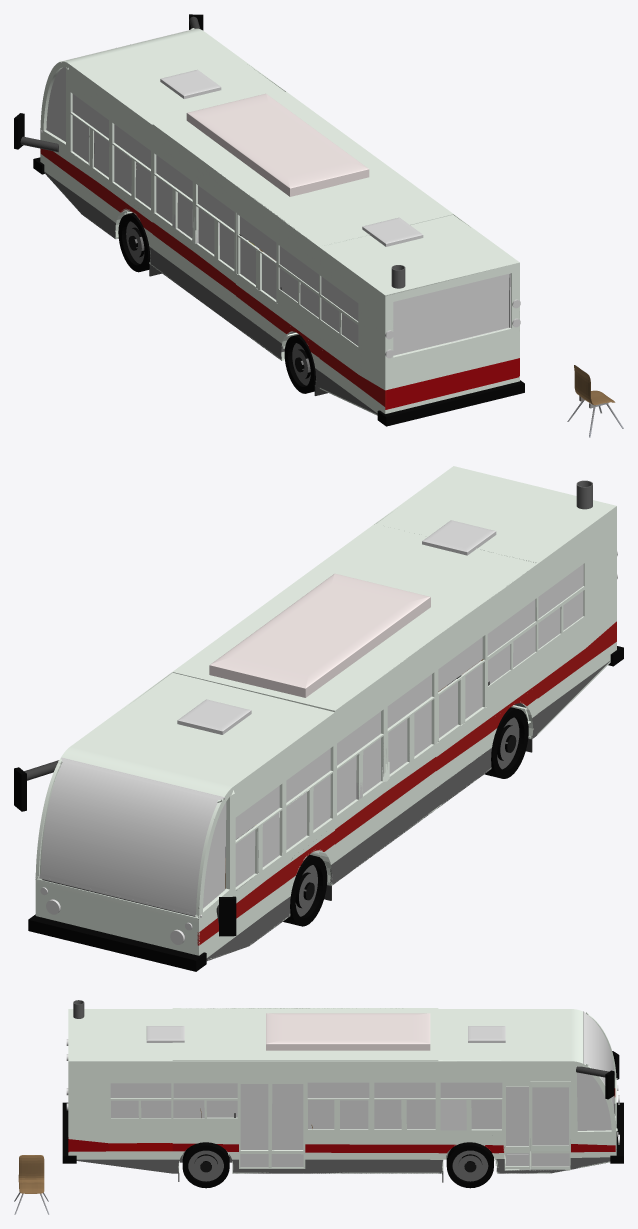
Rendered from Chair yes.fbx.
The picture shows the model from 3 angles, top to bottom: view 1: azimuth 30°, elevation 25°; view 2: azimuth 150°, elevation 25°; view 3: azimuth 270°, elevation 25°; orthographic projection. The views are drawn at different scales.
Visible parts, largest first — view 1: Cube.081, Cube.092, Cube.096, Cube.080, Cube.004, Cube.083, Cube.021, Cylinder, Cube.003, Cube.095, Cube.087, Cube.091 (+5 smaller); view 2: Cube.081, Cube.096, Cube.092, Cube.084, Cube.080, Cube.004, Cube.091, Cube.021, Cylinder, Cube.001, Cube.087, Cube.007 (+6 smaller); view 3: Cube.081, Cube.080, Cube.096, Cube.004, Cube.091, Cylinder, Cube.085, Cube.082, Cube.073, Cube.028, Cube.084, door1 (+14 smaller).
Part boxes in pixels (x1=…): Cube.081: x1=110, y1=62, x2=519, y2=414; Cube.092: x1=40, y1=29, x2=519, y2=395; Cube.096: x1=59, y1=28, x2=517, y2=294; Cube.080: x1=72, y1=94, x2=510, y2=345; Cube.004: x1=186, y1=93, x2=369, y2=196; Cube.083: x1=393, y1=274, x2=509, y2=355; Cube.021: x1=40, y1=148, x2=386, y2=407; Cylinder: x1=118, y1=213, x2=315, y2=393; Cube.003: x1=377, y1=380, x2=524, y2=426; Cube.095: x1=40, y1=93, x2=519, y2=321; Cube.087: x1=156, y1=177, x2=234, y2=268; Cube.091: x1=40, y1=28, x2=244, y2=180; Cube.081: x1=121, y1=466, x2=616, y2=900; Cube.096: x1=47, y1=467, x2=613, y2=885; Cube.092: x1=37, y1=506, x2=616, y2=960; Cube.084: x1=38, y1=757, x2=225, y2=917; Cube.080: x1=235, y1=564, x2=583, y2=886; Cube.004: x1=209, y1=573, x2=430, y2=697; Cube.091: x1=35, y1=709, x2=266, y2=955; Cube.021: x1=197, y1=621, x2=616, y2=945; Cylinder: x1=283, y1=707, x2=528, y2=926; Cube.001: x1=28, y1=914, x2=206, y2=971; Cube.087: x1=337, y1=701, x2=431, y2=812; Cube.007: x1=177, y1=699, x2=251, y2=734; Cube.081: x1=68, y1=1008, x2=504, y2=1182; Cube.080: x1=110, y1=1082, x2=435, y2=1167; Cube.096: x1=68, y1=1009, x2=603, y2=1173; Cube.004: x1=266, y1=1013, x2=430, y2=1050; Cube.091: x1=504, y1=1011, x2=616, y2=1169; Cylinder: x1=182, y1=1142, x2=493, y2=1188; Cube.085: x1=532, y1=1087, x2=568, y2=1145; Cube.082: x1=505, y1=1086, x2=529, y2=1165; Cube.073: x1=576, y1=1066, x2=611, y2=1130; Cube.028: x1=109, y1=1130, x2=172, y2=1151; Cube.084: x1=583, y1=1011, x2=614, y2=1111; door1: x1=530, y1=1081, x2=570, y2=1169.
Size of the model in its own units: 5148 by 3744 by 14620.
